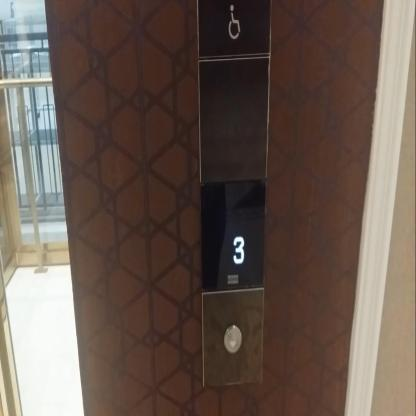CH: (222, 2, 246, 43)
down: (223, 324, 242, 354)
led: (200, 180, 266, 293)
